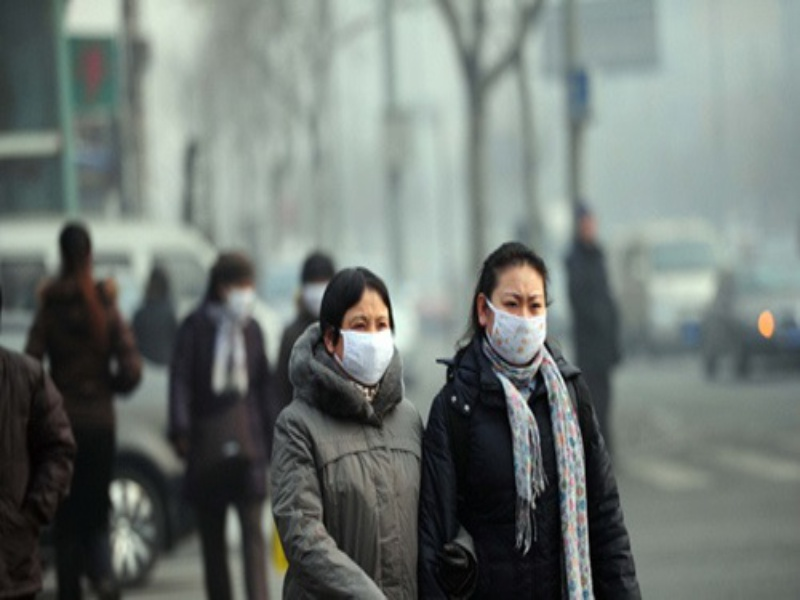mask: (472, 238, 565, 366), (325, 260, 405, 380), (210, 246, 260, 328), (295, 246, 335, 307)
